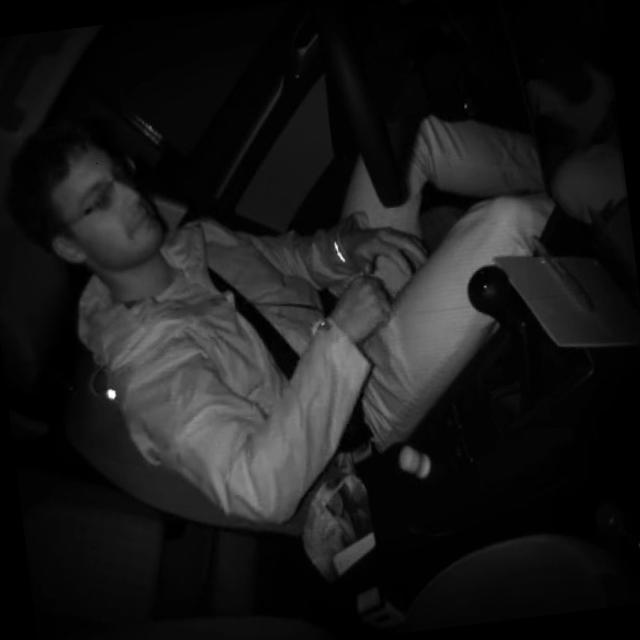pen: (529, 226, 597, 323)
